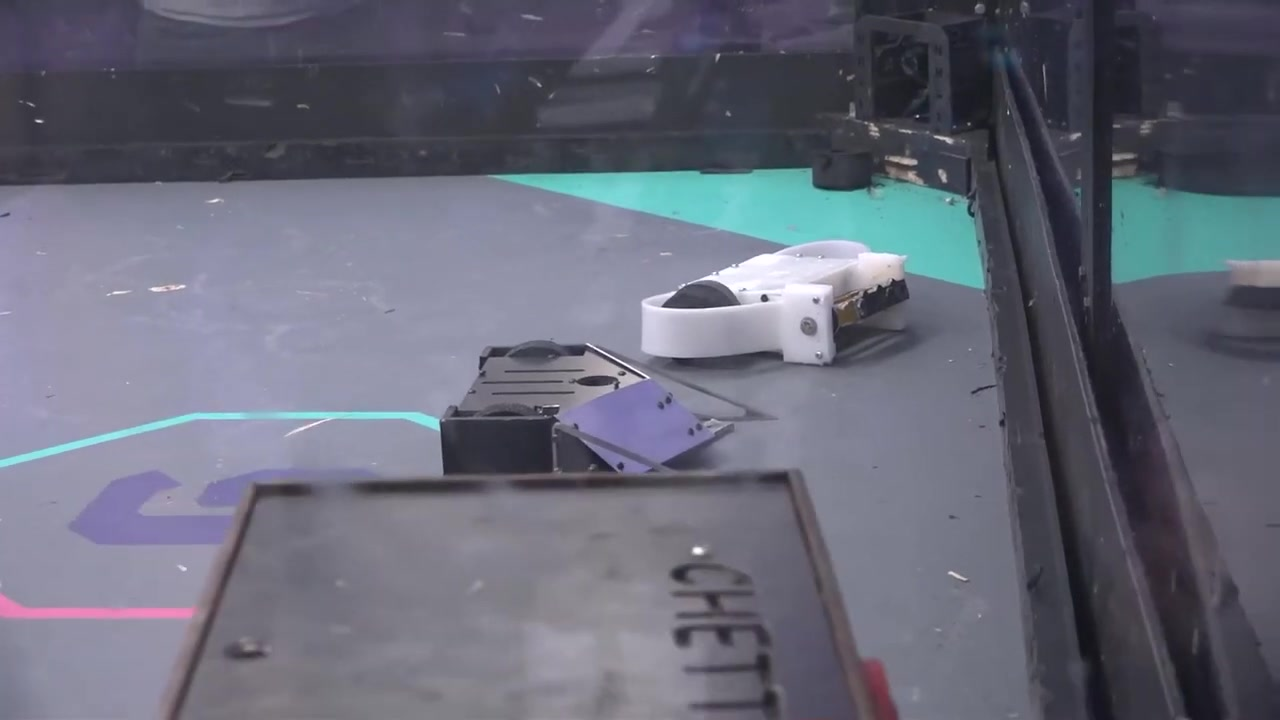combatbot: (445, 341, 770, 493), (640, 242, 915, 370)
housebot: (153, 470, 900, 720)
wheel: (813, 152, 874, 189)
